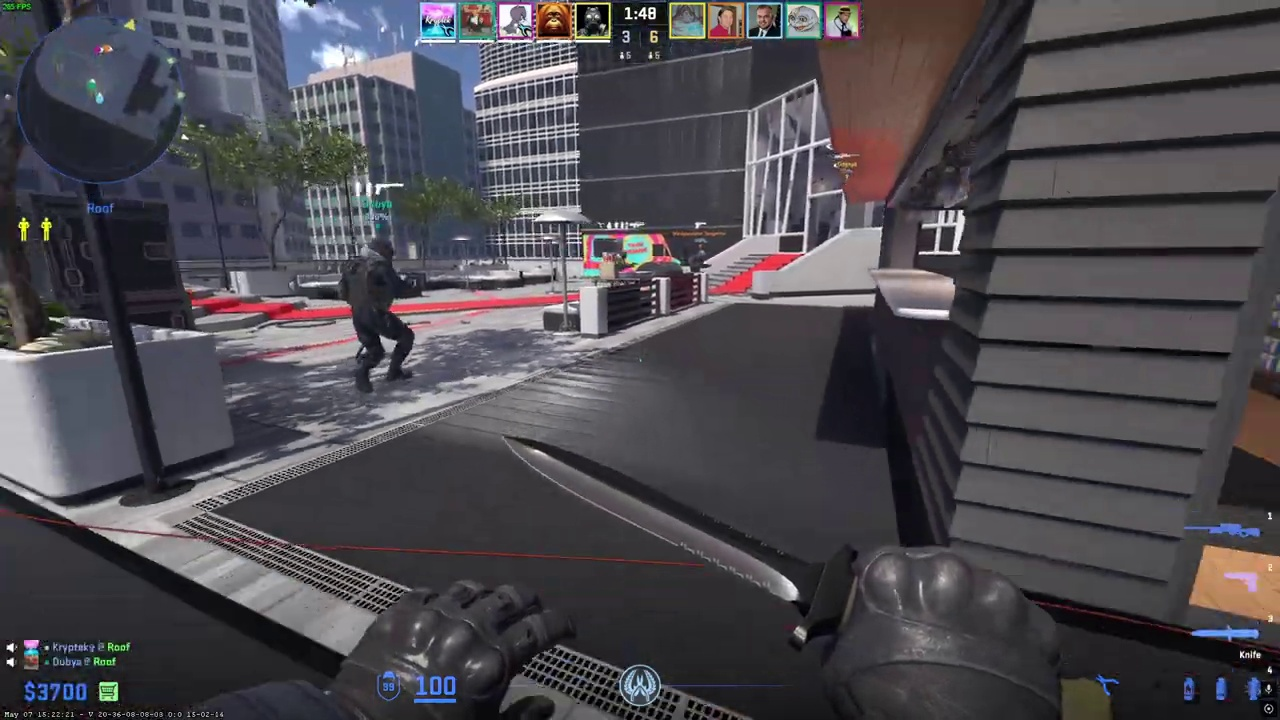CT: (341, 237, 418, 393)
